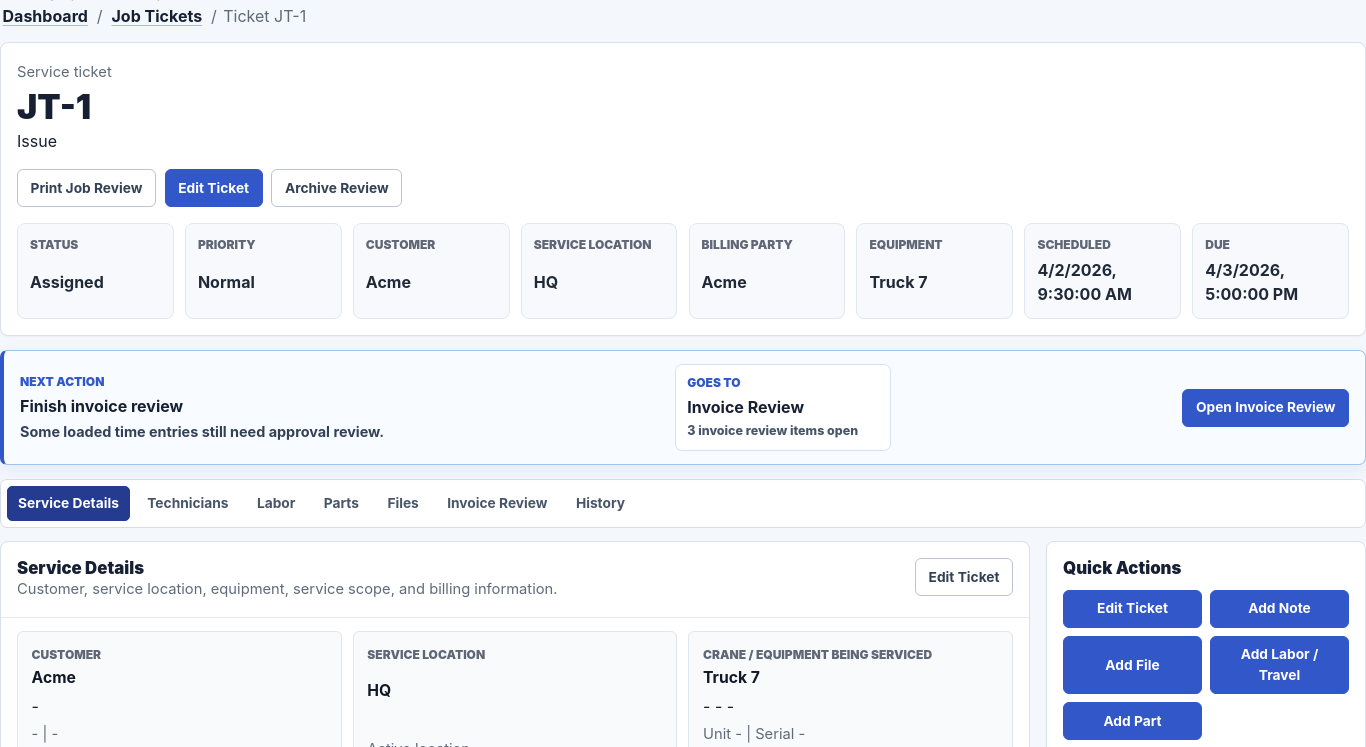
JobTicketDetailPage › lets Manager/Admin add a ticket-only unlisted part without sending order context
Check: the heading "JT-1" is shown, box x1=17 y1=86 x2=91 y2=127
Click the button "Add Part" at (1132, 721), box x1=1063 y1=702 x2=1202 y2=740
(page scrolled)
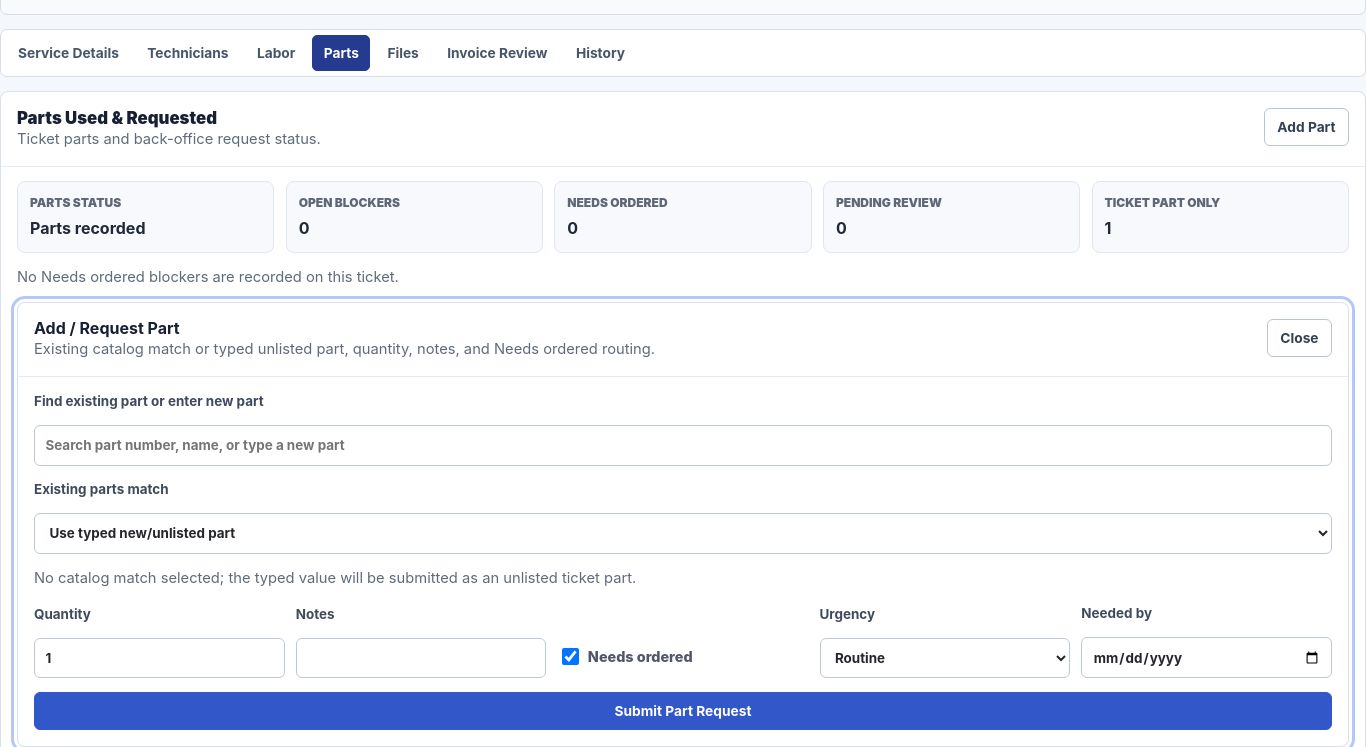
Type "Temporary cap plug" into the field labelled "Find existing part or enter new part" at (683, 445), box x1=34 y1=425 x2=1332 y2=466
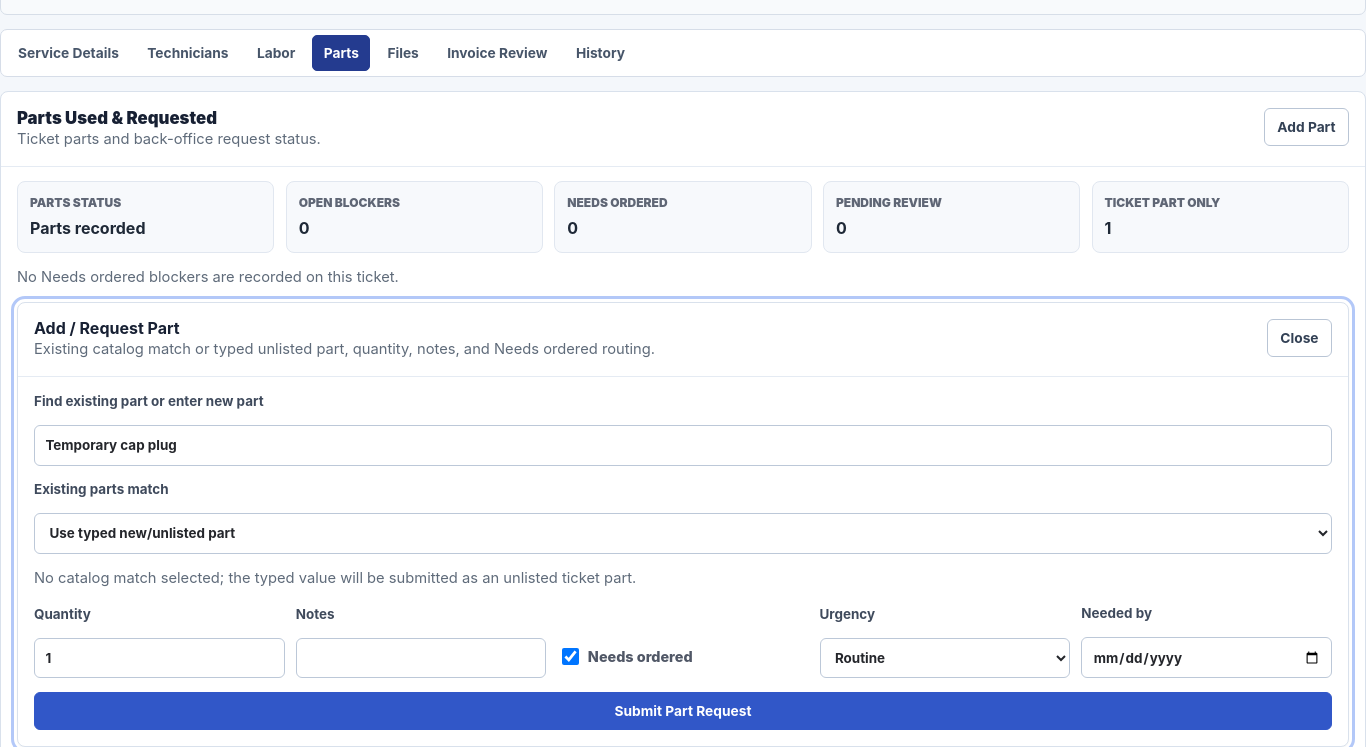
Click the checkbox labelled "Needs ordered" at (570, 656), box x1=562 y1=648 x2=579 y2=665
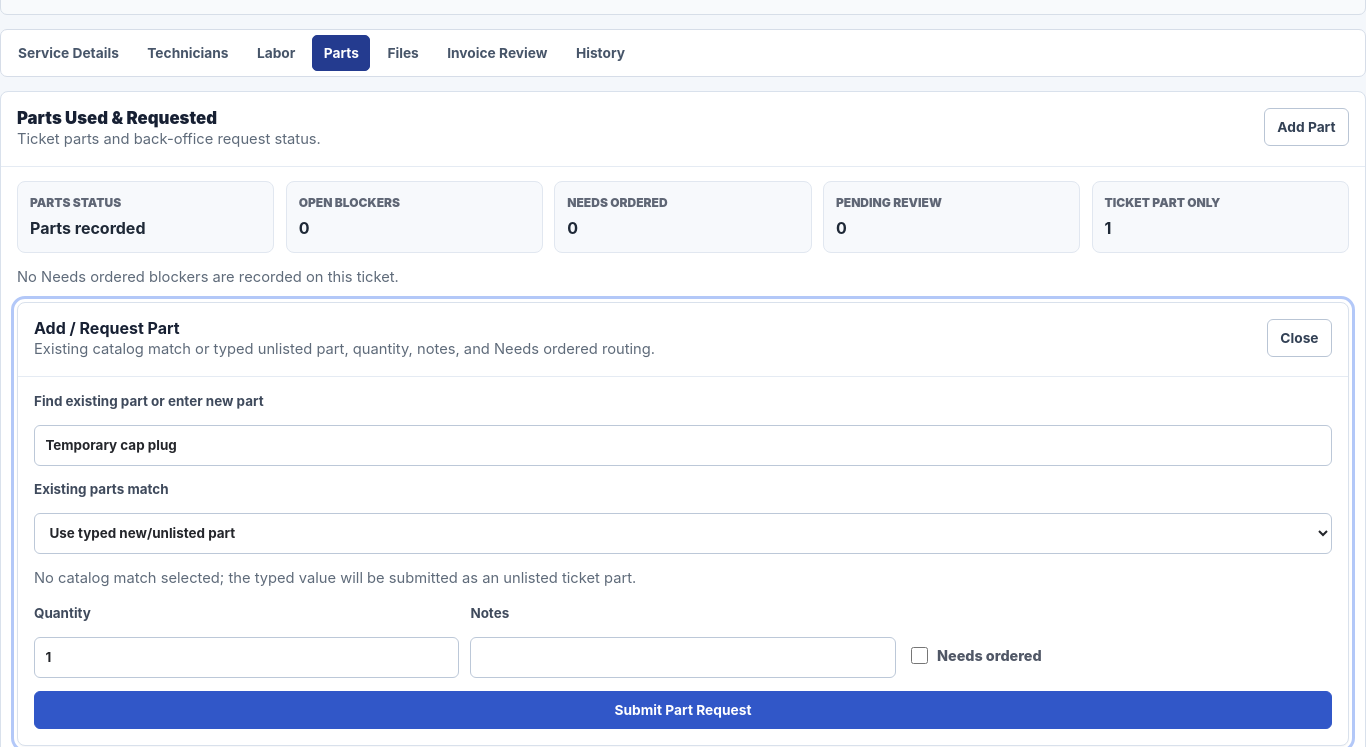
Check: the label labelled "Urgency" is gone
Type "Used from service kit" into the field labelled "Notes" at (683, 657), box x1=470 y1=637 x2=896 y2=678
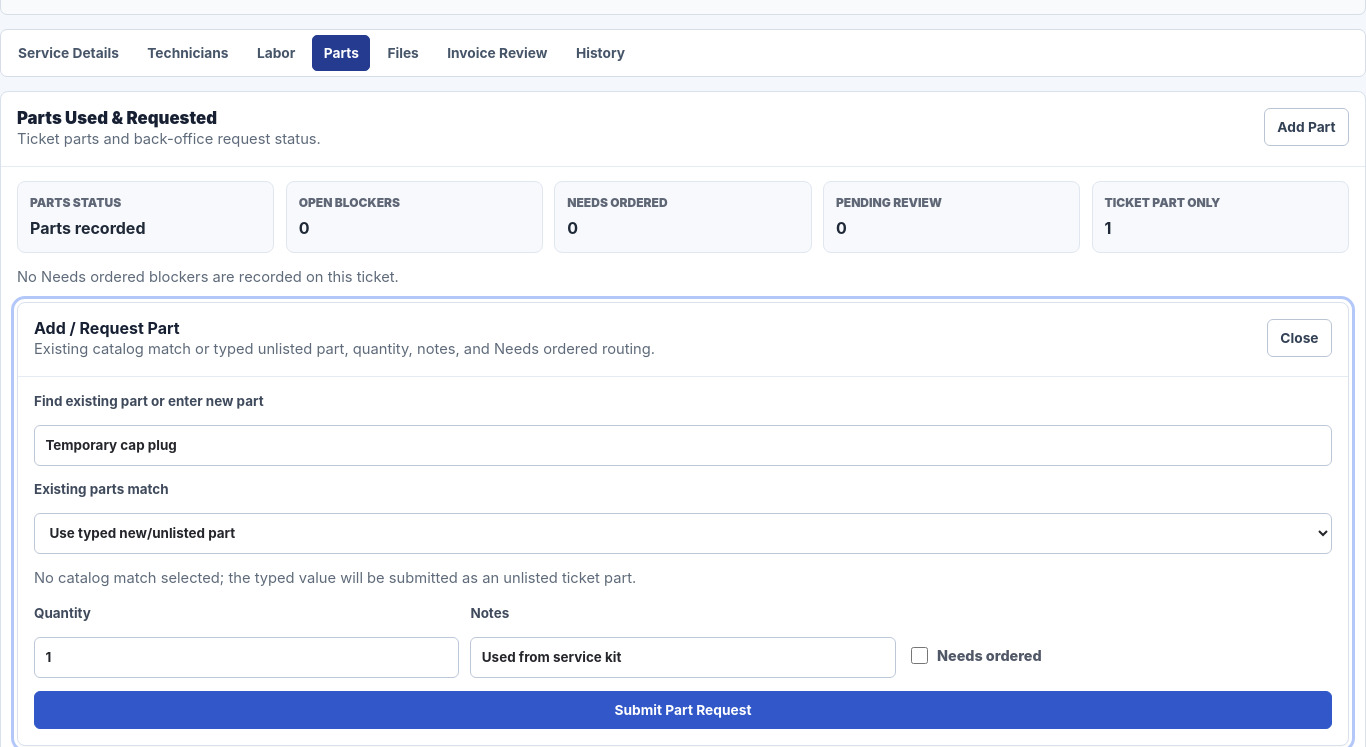
Click the button "Submit Part Request" at (683, 710), box x1=34 y1=691 x2=1332 y2=729
(page scrolled)
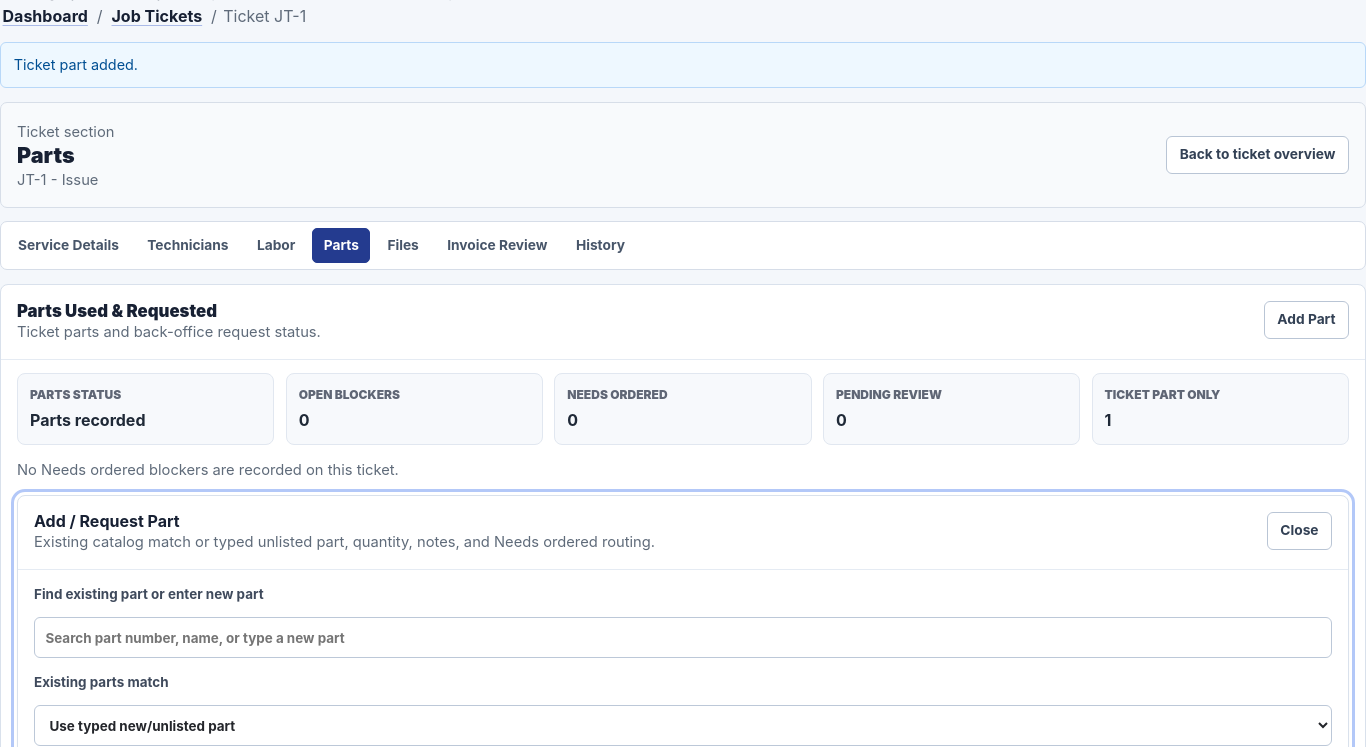
Check: the text "Ticket part added." is shown, box x1=0 y1=42 x2=1365 y2=88
